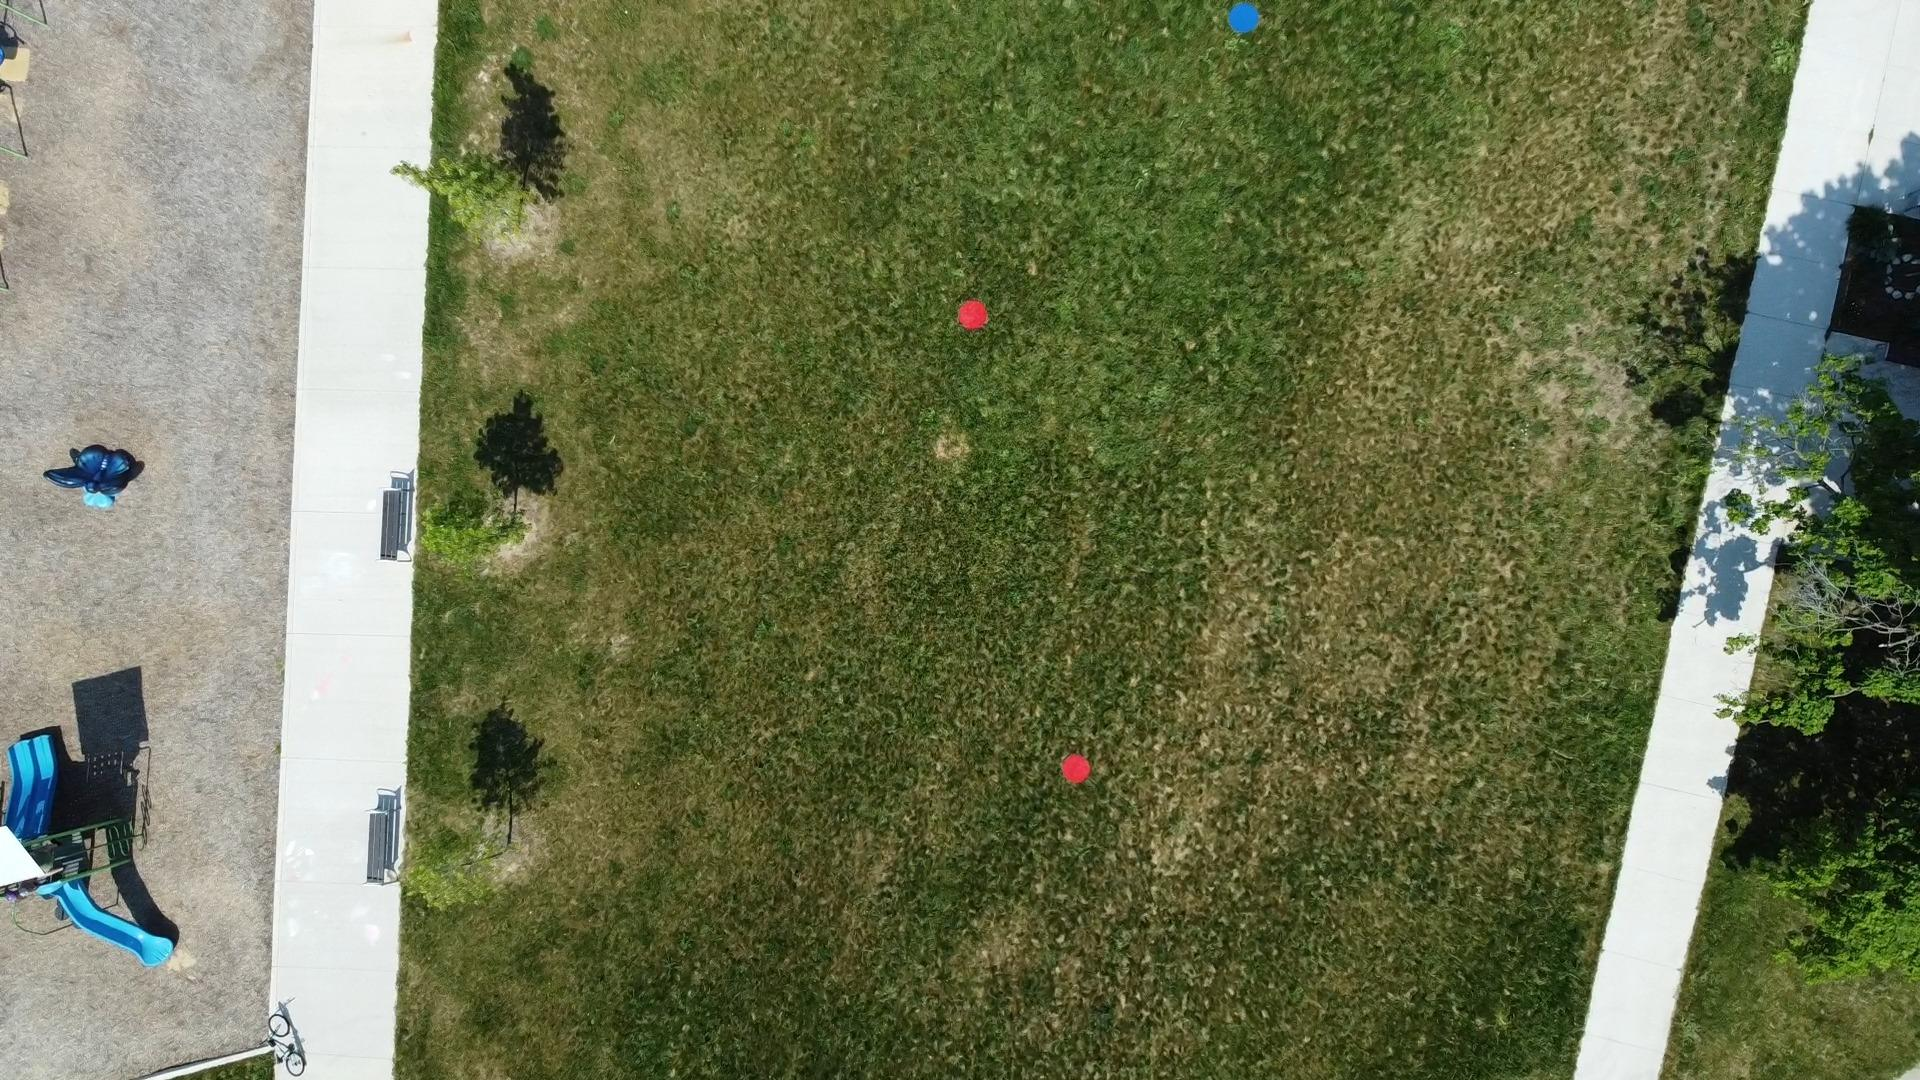Blue: (1225, 1, 1262, 34)
Red: (955, 298, 990, 335), (1059, 752, 1095, 785)
